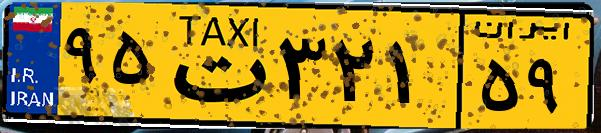1: (385, 28, 445, 110)
2: (330, 28, 385, 110)
3: (270, 28, 330, 110)
5: (475, 38, 525, 113), (110, 28, 158, 98)
9: (57, 26, 110, 100), (525, 38, 570, 115)
ت: (158, 12, 270, 120)
